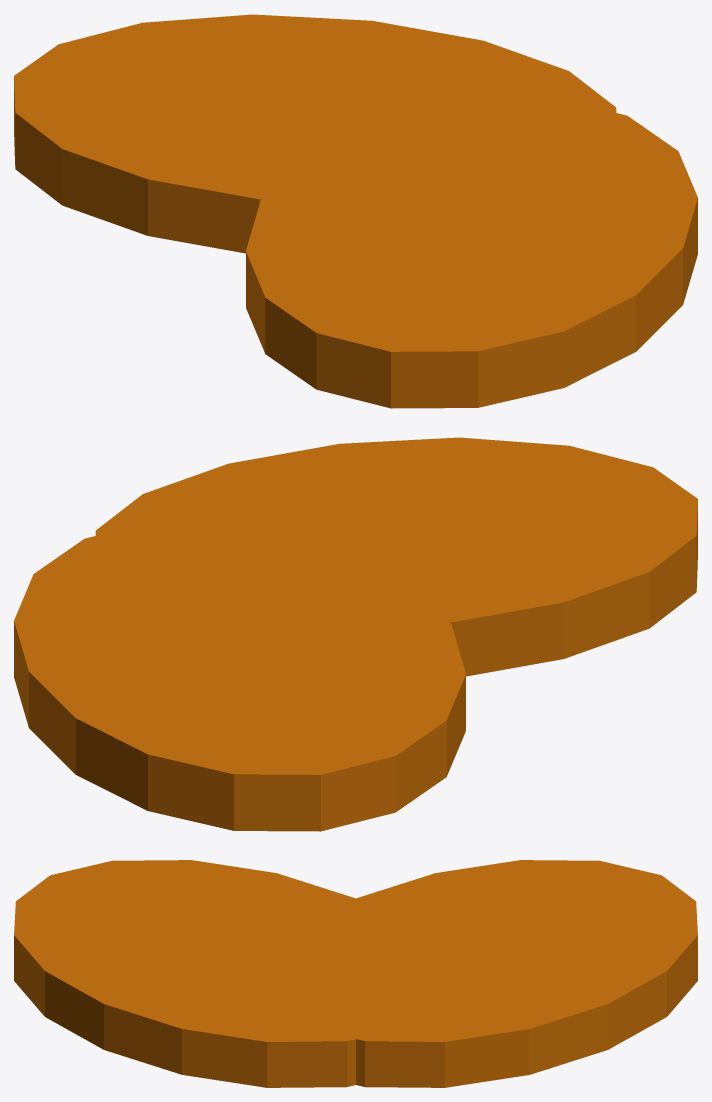
File: fish001_tail_colour.obj
The picture shows the model from 3 angles, top to bottom: view 1: azimuth 30°, elevation 25°; view 2: azimuth 150°, elevation 25°; view 3: azimuth 270°, elevation 25°; orthographic projection. The views are drawn at different scales.
Parts seen in each view (by area): view 1: unnamed_object1; view 2: unnamed_object1; view 3: unnamed_object1.
Boxes of the visible parts, left/top/right/bottom form: unnamed_object1: left=14, top=14, right=697, bottom=408; unnamed_object1: left=14, top=437, right=697, bottom=831; unnamed_object1: left=14, top=860, right=697, bottom=1087.
Size of the model in its own units: 8.5 by 1 by 13.5.
